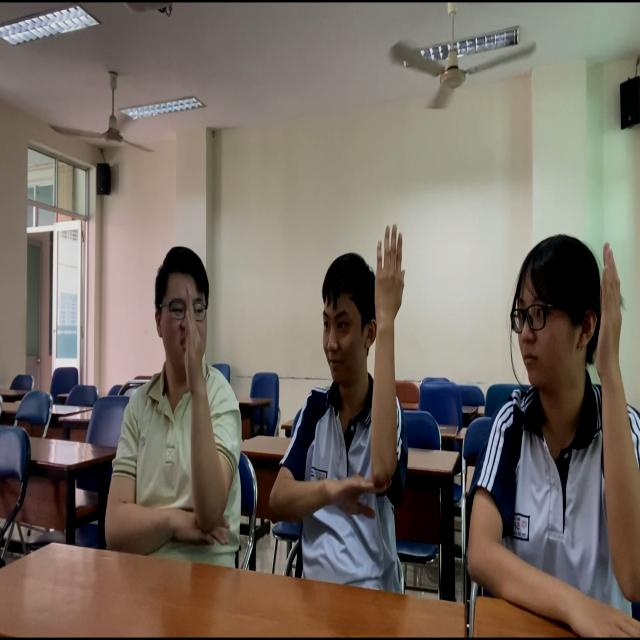raise_hand: (268, 188, 420, 560), (497, 210, 640, 591), (125, 233, 237, 534)
